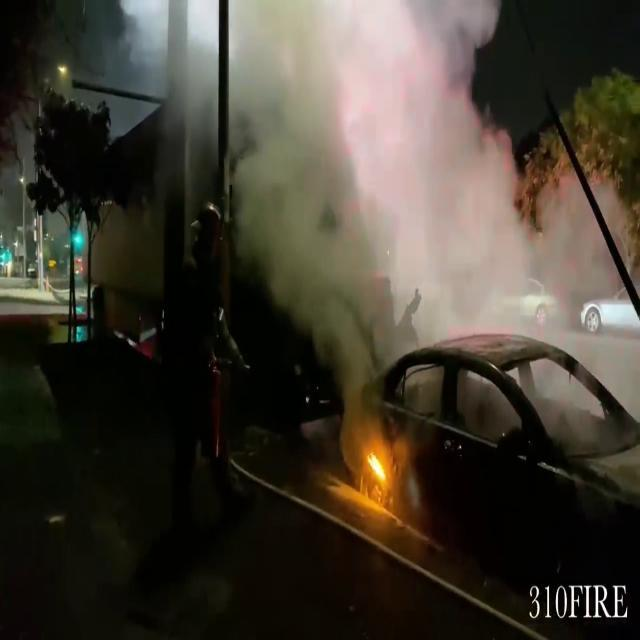Fire: (360, 436, 392, 499)
Smoke: (225, 0, 560, 339)
